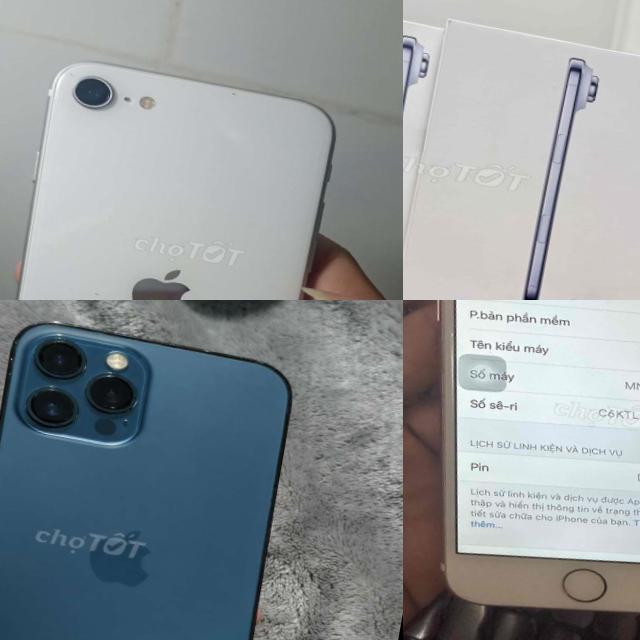scratch: (83, 286, 105, 300), (224, 85, 242, 98), (61, 66, 76, 78)
